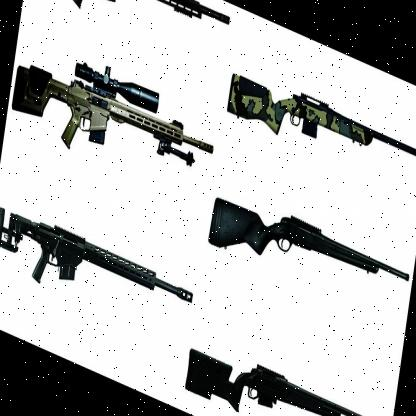rifle: (207, 174, 415, 336), (7, 42, 214, 202), (0, 193, 199, 354), (220, 54, 416, 215), (184, 324, 392, 416), (24, 0, 231, 80)
